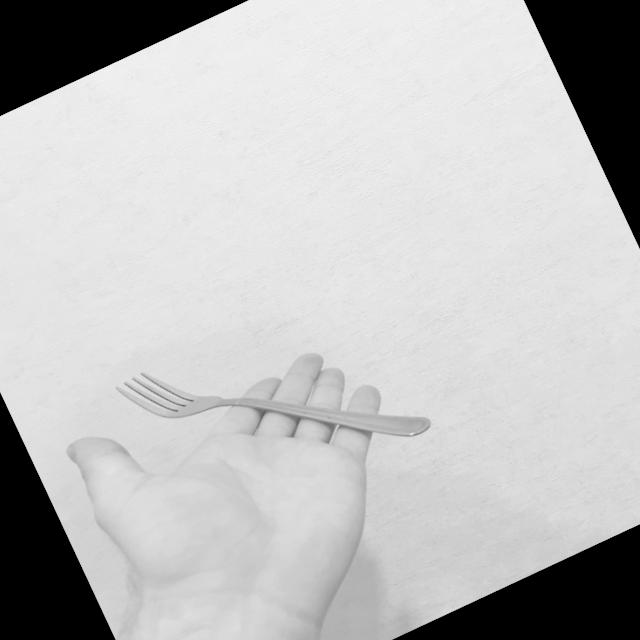fork: (112, 268, 437, 544)
